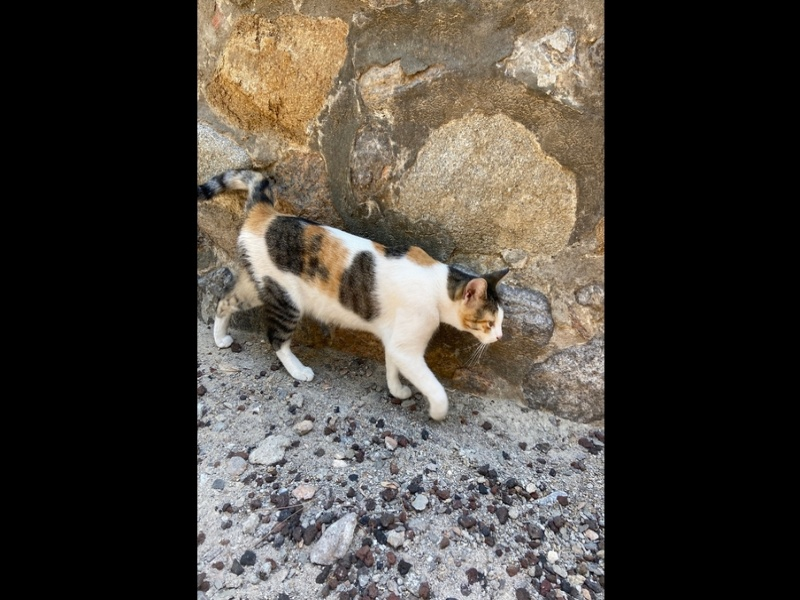cat: (199, 155, 511, 423)
